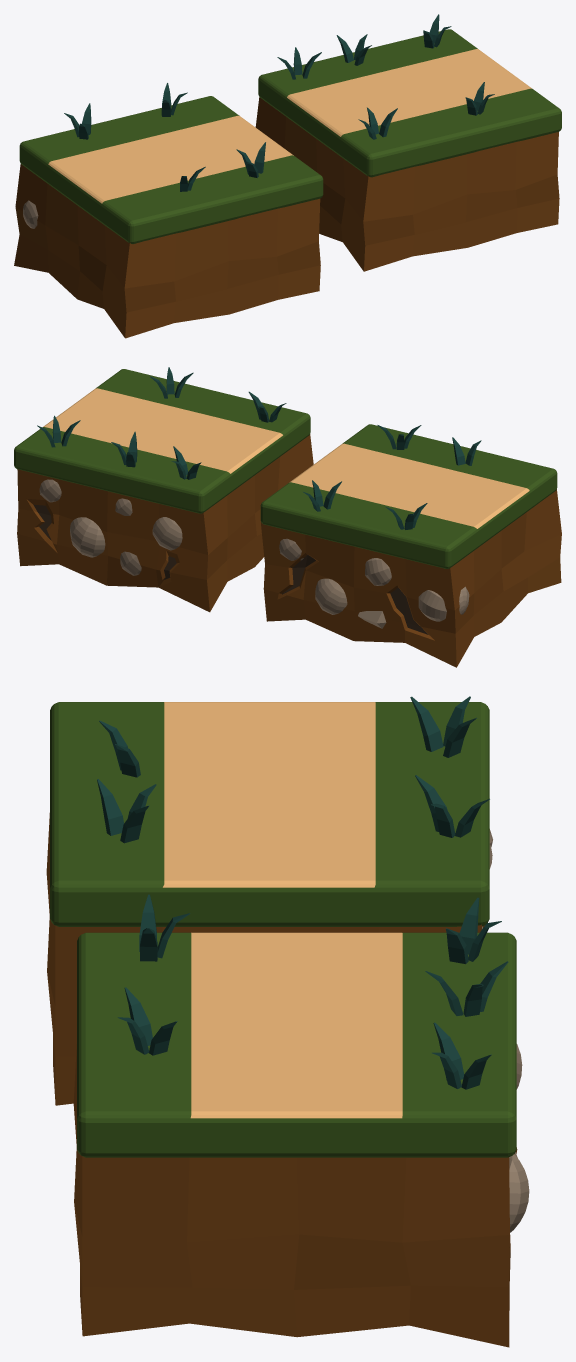
Rendered from fase1-assetschao.fbx.
3 views of the same model, one above another, from view 1: azimuth 30°, elevation 25°; view 2: azimuth 150°, elevation 25°; view 3: azimuth 270°, elevation 25° (orthographic). The views are drawn at different scales.
Parts seen in each view (by area): view 1: Cube.080, Cube.068; view 2: Cube.080, Cube.068; view 3: Cube.068, Cube.080.
Part boxes in pixels (x1=…): Cube.080: x1=14, y1=83, x2=323, y2=338; Cube.068: x1=255, y1=14, x2=561, y2=271; Cube.080: x1=260, y1=424, x2=561, y2=667; Cube.068: x1=14, y1=367, x2=313, y2=612; Cube.068: x1=73, y1=894, x2=529, y2=1347; Cube.080: x1=46, y1=696, x2=492, y2=1105.
Bounding box in the file's own units: 1270 × 401 × 609.
